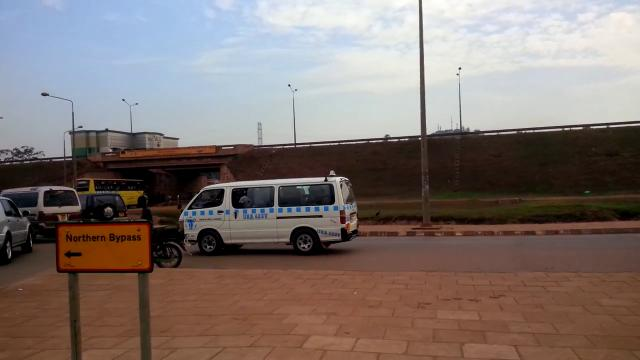bus: (75, 178, 150, 205)
van: (180, 167, 359, 254), (0, 185, 82, 241)
